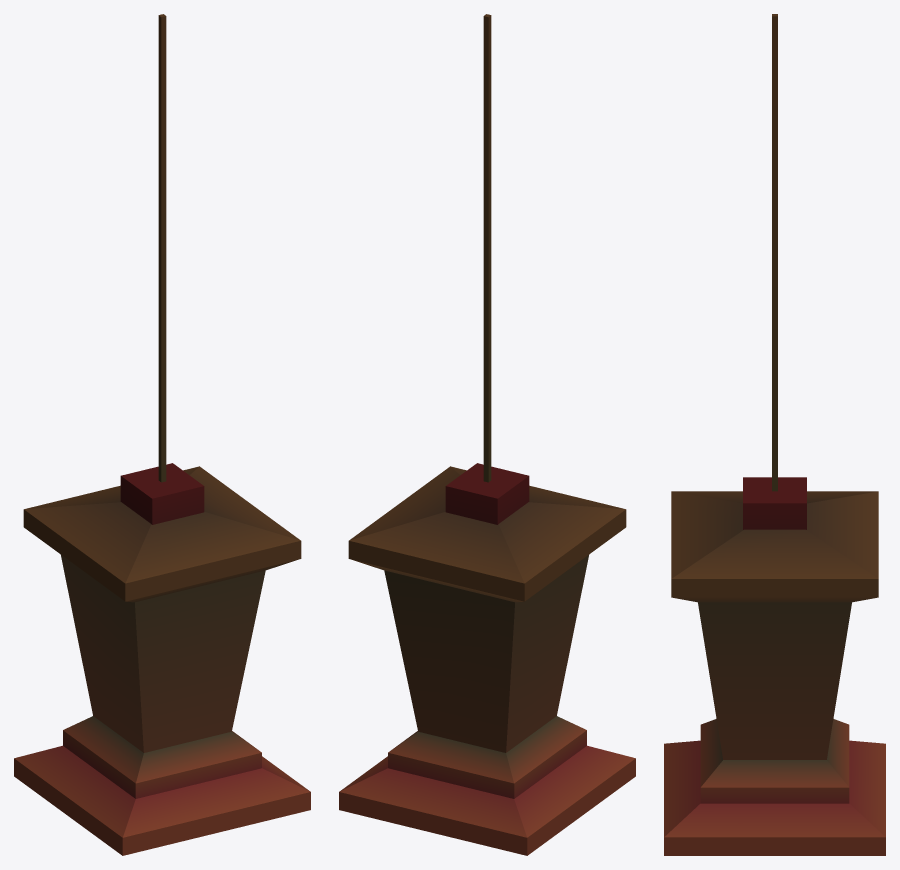
The picture shows the model from 3 angles, left to right: view 1: azimuth 30°, elevation 25°; view 2: azimuth 150°, elevation 25°; view 3: azimuth 270°, elevation 25°; orthographic projection. The views are drawn at different scales.
Parts seen in each view (by area): view 1: body, bottom_rim, cap_flare, rod, top_block; view 2: body, bottom_rim, cap_flare, rod, top_block; view 3: bottom_rim, cap_flare, body, top_block, rod.
Part boxes in pixels (left/top/right/bottom): body: left=61, top=555, right=265, bottom=752; bottom_rim: left=14, top=716, right=310, bottom=855; cap_flare: left=23, top=466, right=301, bottom=602; rod: left=158, top=14, right=166, bottom=482; top_block: left=120, top=463, right=204, bottom=524; body: left=384, top=555, right=588, bottom=752; bottom_rim: left=339, top=716, right=635, bottom=855; cap_flare: left=348, top=466, right=626, bottom=602; rod: left=483, top=14, right=491, bottom=482; top_block: left=445, top=463, right=529, bottom=524; bottom_rim: left=664, top=719, right=885, bottom=855; cap_flare: left=671, top=491, right=878, bottom=602; body: left=698, top=602, right=851, bottom=759; top_block: left=743, top=477, right=806, bottom=529; rod: left=772, top=14, right=777, bottom=491.
Size of the model in its own units: 0.076 by 0.3 by 0.076.
